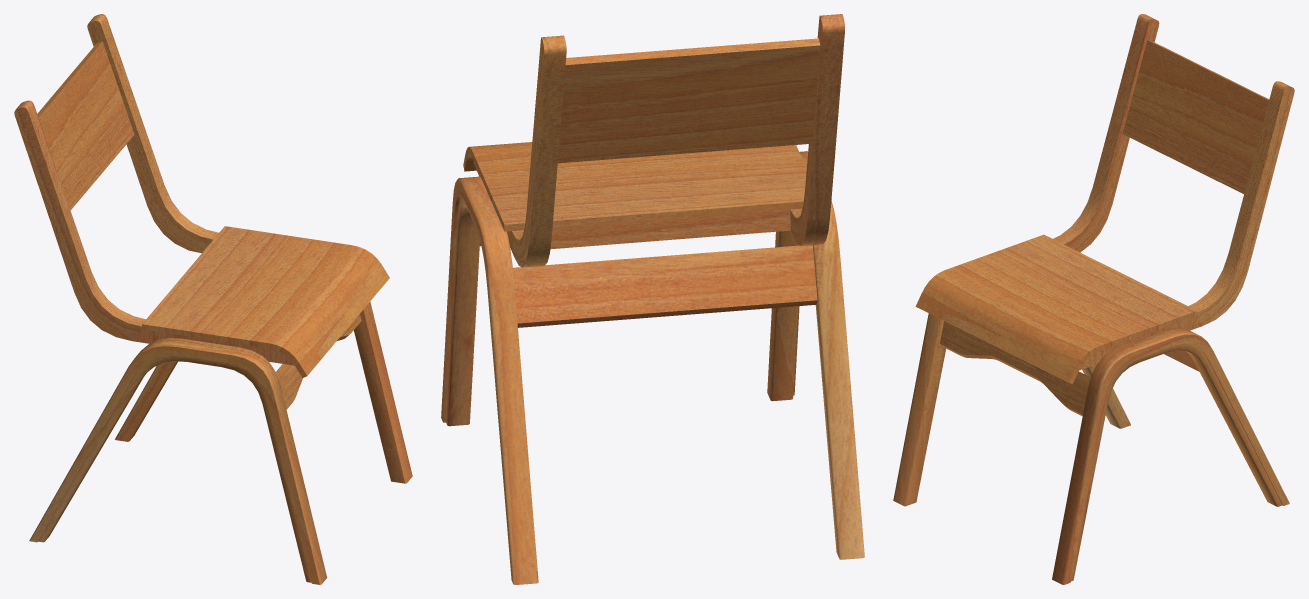
File: chair_30425385.glb
3 renders of one model, left to right at view 1: azimuth 30°, elevation 25°; view 2: azimuth 150°, elevation 25°; view 3: azimuth 270°, elevation 25°, orthographic. The views are drawn at different scales.
Visible parts, largest first — view 1: Chair_02 - Default_0; view 2: Chair_02 - Default_0; view 3: Chair_02 - Default_0.
Boxes of the visible parts, x1,y1,x2,y2 form: Chair_02 - Default_0: (14, 14, 412, 584); Chair_02 - Default_0: (441, 14, 864, 584); Chair_02 - Default_0: (893, 14, 1294, 584).
Bounding box in the file's own units: 35.11 × 40.2 × 35.87.
Materials: 1 (1 with a texture image).
